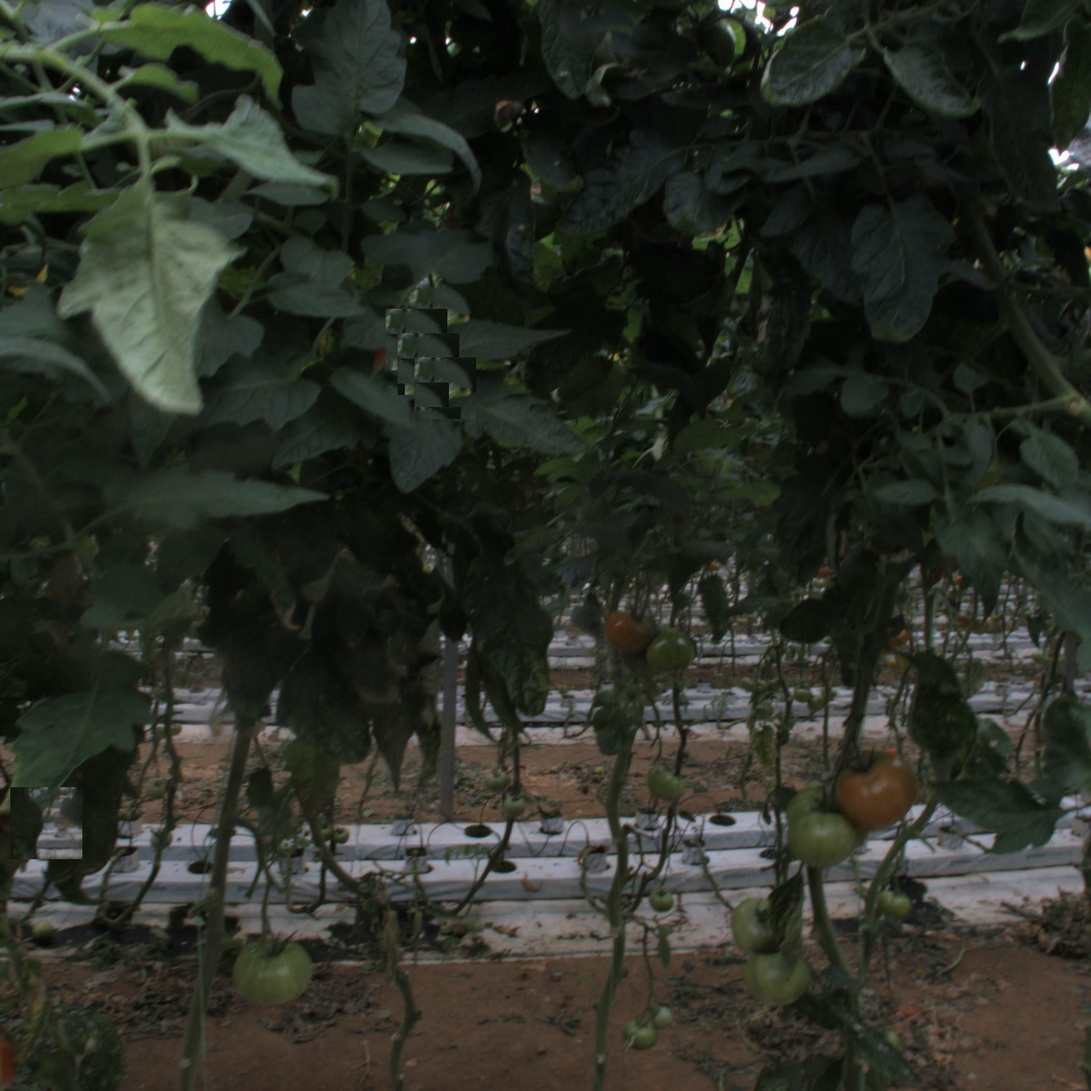fully-ripe: (832, 745, 915, 828), (605, 601, 658, 655)
unripe: (238, 931, 312, 1005), (792, 803, 858, 868), (745, 940, 810, 1006), (730, 896, 787, 952), (648, 630, 696, 678)
